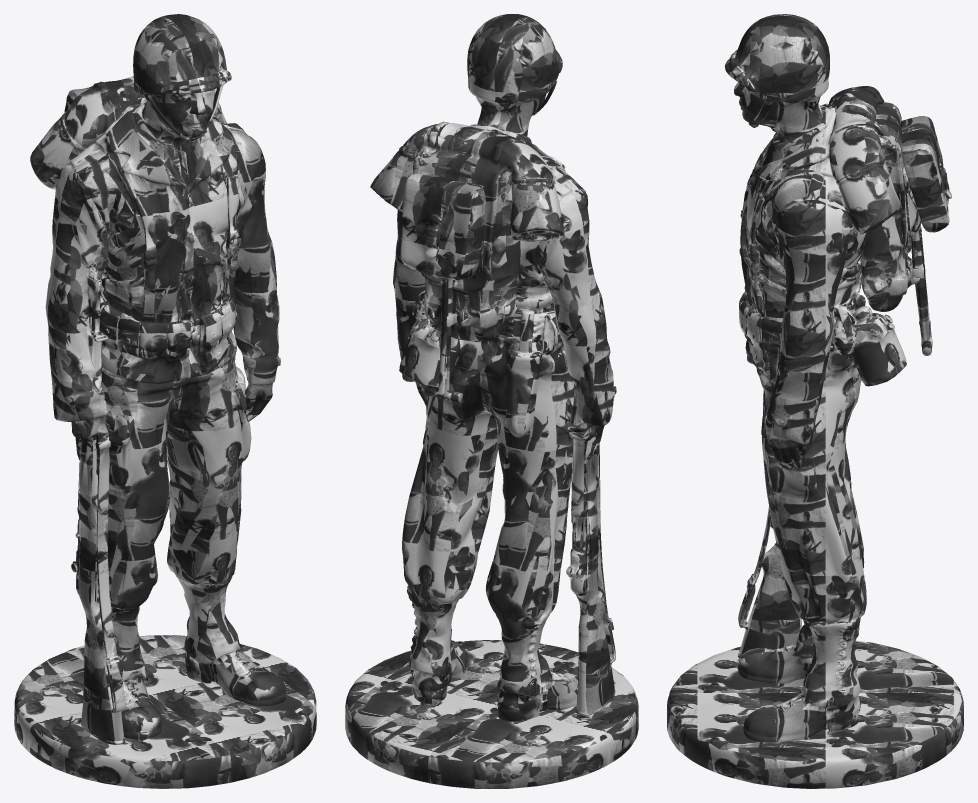
The model's file is soldier.gltf.
3 renders of one model, left to right at view 1: azimuth 30°, elevation 25°; view 2: azimuth 150°, elevation 25°; view 3: azimuth 270°, elevation 25°, orthographic. The views are drawn at different scales.
Parts seen in each view (by area): view 1: American_soldier_ww2_Stand_A1; view 2: American_soldier_ww2_Stand_A1; view 3: American_soldier_ww2_Stand_A1.
Part boxes in pixels (x1=…): American_soldier_ww2_Stand_A1: x1=14, y1=14, x2=316, y2=788; American_soldier_ww2_Stand_A1: x1=345, y1=14, x2=638, y2=788; American_soldier_ww2_Stand_A1: x1=667, y1=14, x2=963, y2=788.
Bounding box in the file's own units: 2.78 × 7.31 × 2.78.
1 material, 1 textured.
